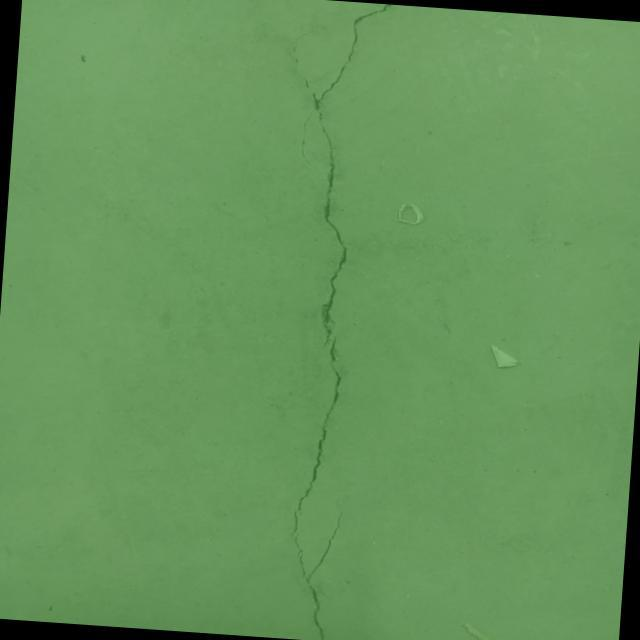crack: (252, 0, 391, 640)
